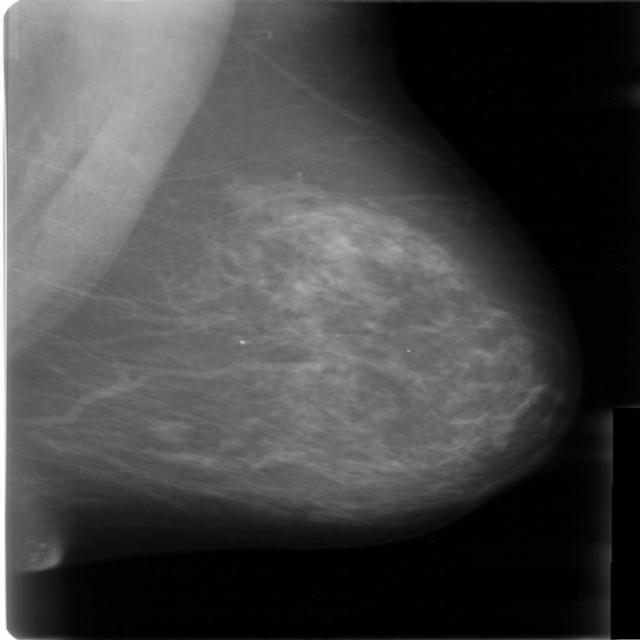tumour: (148, 418, 191, 444)
